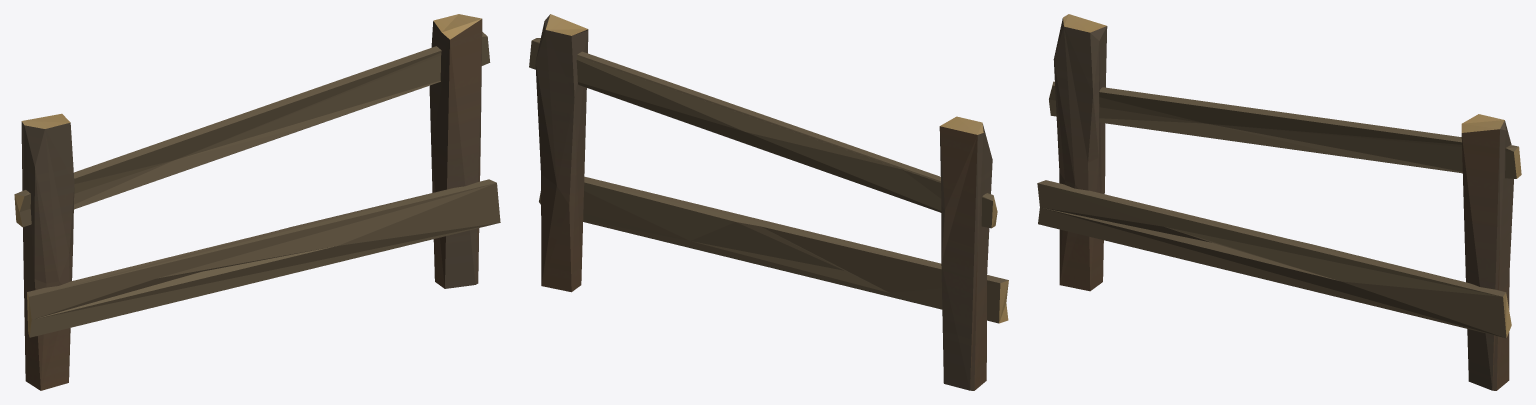
File: Fence_1.fbx
3 views of the same model, side by side, from view 1: azimuth 30°, elevation 25°; view 2: azimuth 150°, elevation 25°; view 3: azimuth 330°, elevation 25° (orthographic).
Parts seen in each view (by area): view 1: polySurface9741; view 2: polySurface9741; view 3: polySurface9741.
Boxes of the visible parts, box(x1,y1,x2,y2) form: polySurface9741: box(14, 14, 500, 390); polySurface9741: box(529, 14, 1008, 390); polySurface9741: box(1037, 14, 1521, 390).
Bounding box in the file's own units: 231 × 124 × 19.82.
